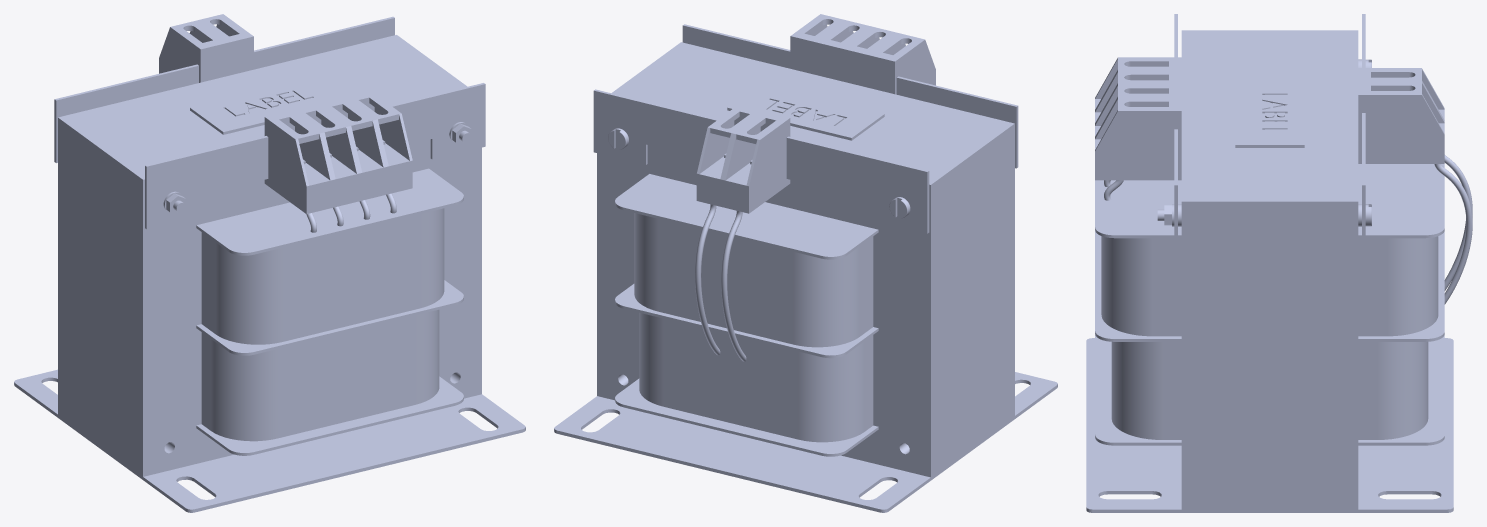
3 renders of one model, left to right at view 1: azimuth 30°, elevation 25°; view 2: azimuth 150°, elevation 25°; view 3: azimuth 270°, elevation 25°, orthographic. The views are drawn at different scales.
Parts seen in each view (by area): view 1: Solid27, Solid22, Solid24, Solid1, Solid21, Solid28, Solid50, Solid29, Solid26, Solid25, Solid7, Solid53 (+6 smaller); view 2: Solid27, Solid16, Solid18, Solid1, Solid17, Solid7, Solid6, Solid53, Solid26, Solid20, Solid50, Solid52 (+8 smaller); view 3: Solid27, Solid1, Solid22, Solid16, Solid24, Solid18, Solid51, Solid52, Solid17, Solid26, Solid21, Solid20 (+11 smaller).
Boxes of the visible parts, x1,y1,x2,y2 form: Solid27: (58,35,481,476); Solid22: (201,208,444,344); Solid24: (201,309,439,441); Solid1: (14,369,525,512); Solid21: (196,168,463,255); Solid28: (145,136,268,229); Solid50: (264,110,332,214); Solid29: (391,83,485,159); Solid26: (190,77,344,134); Solid25: (196,376,463,455); Solid7: (54,64,198,162); Solid53: (159,20,227,82); Solid27: (597,42,1014,477); Solid16: (634,213,873,347); Solid18: (639,312,873,442); Solid1: (554,372,1057,512); Solid17: (615,174,878,259); Solid7: (786,136,929,233); Solid6: (593,89,717,164); Solid53: (723,111,790,213); Solid26: (727,83,884,140); Solid20: (615,378,878,456); Solid50: (869,33,935,94); Solid52: (696,105,763,207); Solid27: (1181,30,1358,509); Solid1: (1086,338,1453,512); Solid22: (1101,236,1181,336); Solid16: (1358,236,1438,336); Solid24: (1111,341,1181,439); Solid18: (1358,341,1428,439); Solid51: (1095,97,1181,180); Solid52: (1358,81,1444,163); Solid17: (1358,164,1444,238); Solid26: (1235,81,1304,147); Solid21: (1095,180,1181,238); Solid20: (1358,335,1444,445).
Size of the model in its own units: 0.1621 by 0.1524 by 0.1544.
